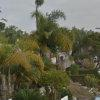Palm tree: (24, 2, 76, 57)
